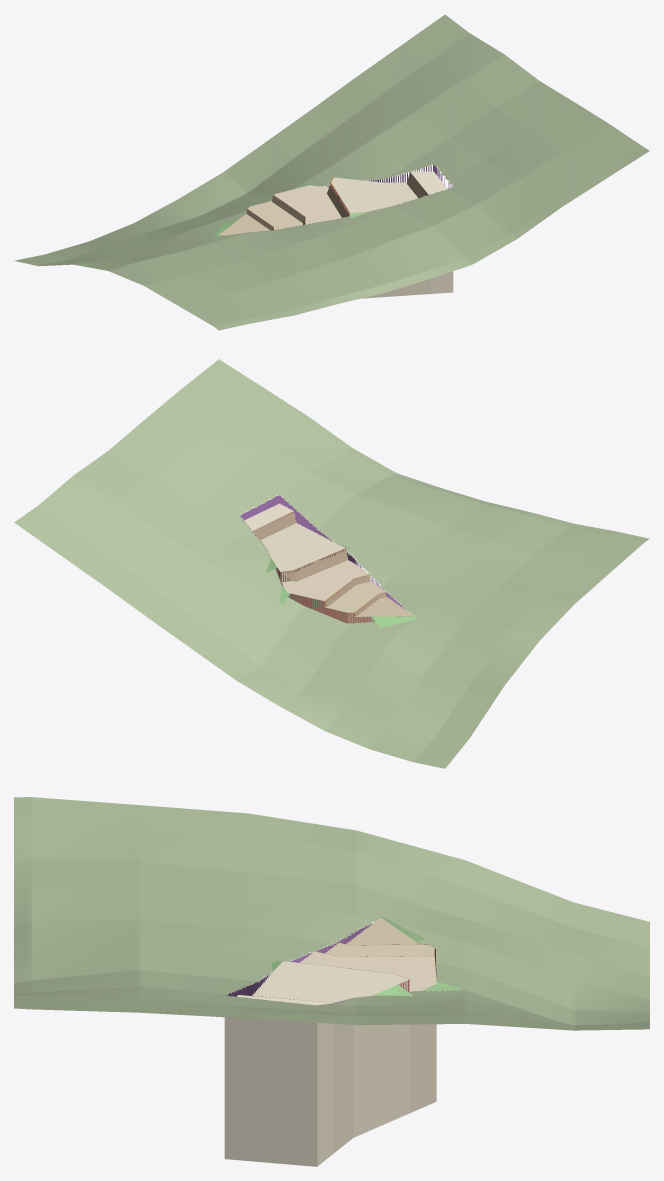
Rendered from terrain.glb.
The picture shows the model from 3 angles, top to bottom: view 1: azimuth 30°, elevation 25°; view 2: azimuth 150°, elevation 25°; view 3: azimuth 270°, elevation 25°; orthographic projection. The views are drawn at different scales.
Visible parts, largest first — view 1: Terrain_outside, Terrace_2, Terrace_3, Terrace_1, Terrace_4, Terrace_5; view 2: Terrain_outside, Terrace_2, Terrace_3, Terrace_4, Retaining_N, Face_T2_T3, Terrace_5, Retaining_A70, Terrace_1; view 3: Terrain_outside, Terrace_1, Terrace_2, Terrace_3, Terrace_4, Terrace_5, Slopes_Bplus_neighbour, Retaining_N.
Part boxes in pixels (left/top/right/bottom): Terrain_outside: left=14, top=14, right=649, bottom=330; Terrace_2: left=331, top=177, right=430, bottom=298; Terrace_3: left=273, top=185, right=341, bottom=224; Terrace_1: left=410, top=171, right=453, bottom=293; Terrace_4: left=247, top=201, right=302, bottom=230; Terrace_5: left=219, top=214, right=269, bottom=236; Terrain_outside: left=14, top=359, right=649, bottom=768; Terrace_2: left=260, top=523, right=344, bottom=582; Terrace_3: left=281, top=560, right=369, bottom=613; Terrace_4: left=324, top=581, right=385, bottom=623; Retaining_N: left=240, top=495, right=407, bottom=611; Face_T2_T3: left=281, top=548, right=348, bottom=581; Terrace_5: left=354, top=596, right=413, bottom=623; Retaining_A70: left=271, top=512, right=370, bottom=623; Terrace_1: left=244, top=503, right=293, bottom=530; Terrain_outside: left=14, top=797, right=649, bottom=1030; Terrace_1: left=224, top=995, right=334, bottom=1166; Terrace_2: left=252, top=961, right=409, bottom=1152; Terrace_3: left=300, top=951, right=436, bottom=1113; Terrace_4: left=324, top=942, right=434, bottom=956; Terrace_5: left=346, top=917, right=419, bottom=945; Slopes_Bplus_neighbour: left=271, top=916, right=460, bottom=996; Retaining_N: left=225, top=924, right=417, bottom=1005.
Size of the model in its own units: 220 by 77.95 by 181.
